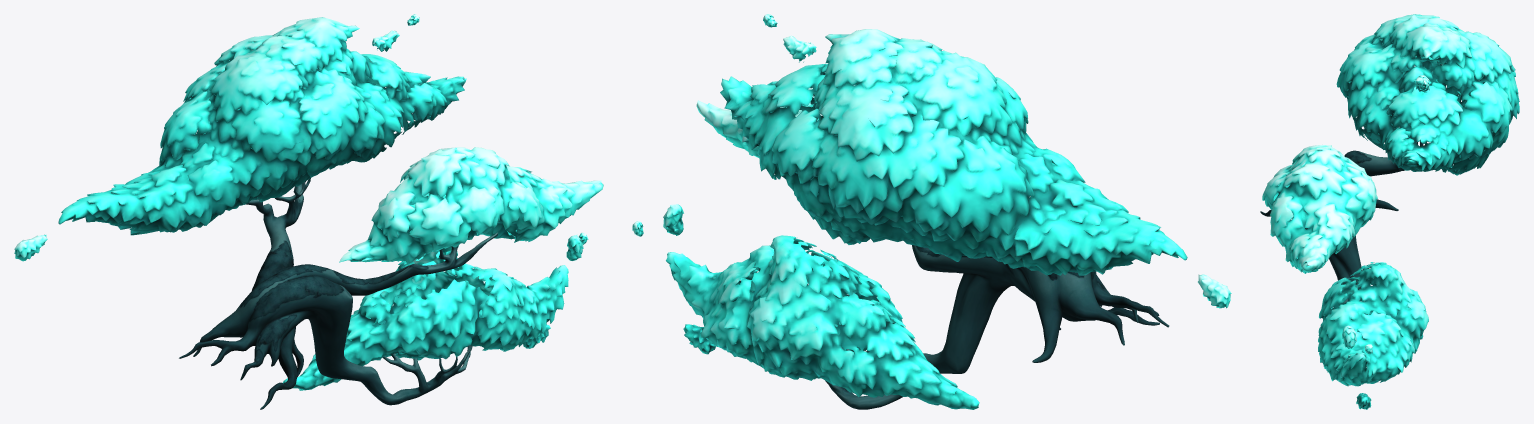
The model's file is sky_tree_01a_soma.glb.
The picture shows the model from 3 angles, left to right: view 1: azimuth 30°, elevation 25°; view 2: azimuth 150°, elevation 25°; view 3: azimuth 270°, elevation 25°; orthographic projection. The views are drawn at different scales.
Parts seen in each view (by area): view 1: tree_01a; view 2: tree_01a; view 3: tree_01a.
Boxes of the visible parts, x1,y1,x2,y2 form: tree_01a: [14, 14, 603, 409]; tree_01a: [632, 14, 1231, 409]; tree_01a: [1260, 14, 1519, 409].
Size of the model in its own units: 61.24 by 39.23 by 28.68.
2 materials, 2 textured.
